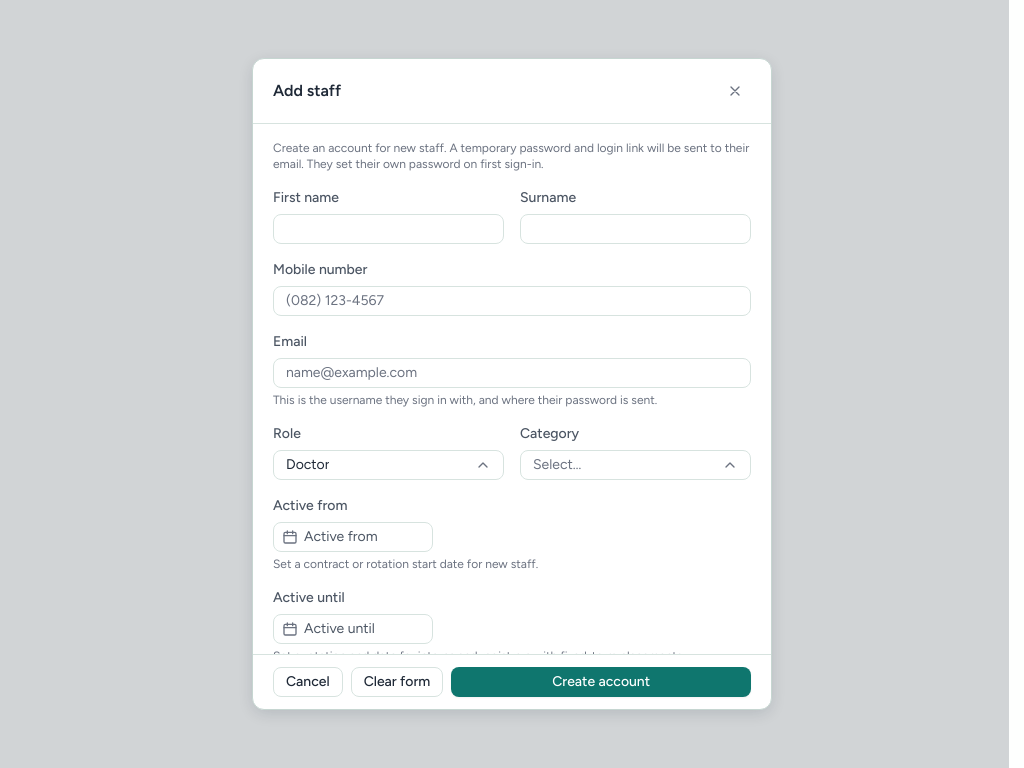
Test: AddStaffModal › reports a delivery failure separately and surfaces the password once
This screenshot has width=1024, height=768.
In the field labelled "First name": [388, 229] box [273,214,504,244], type "Ada"
In the field labelled "Surname": [636, 229] box [520,214,751,244], type "Nkosi"
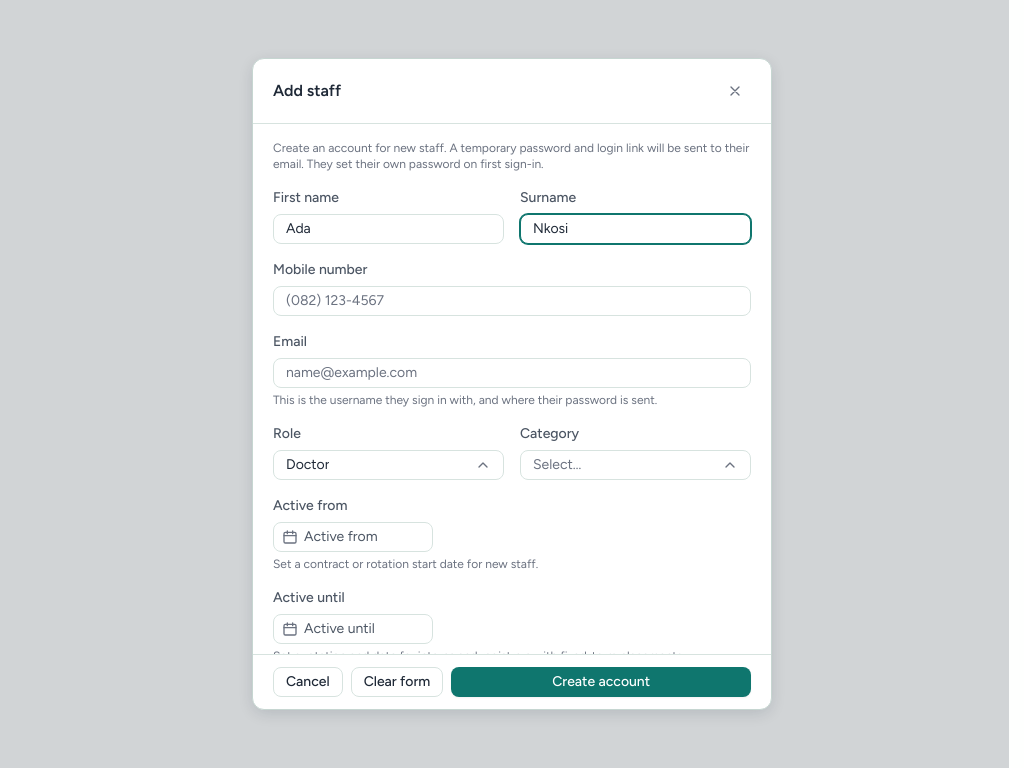
In the field labelled "Mobile number": [512, 301] box [273,286,751,316], type "0821234567"
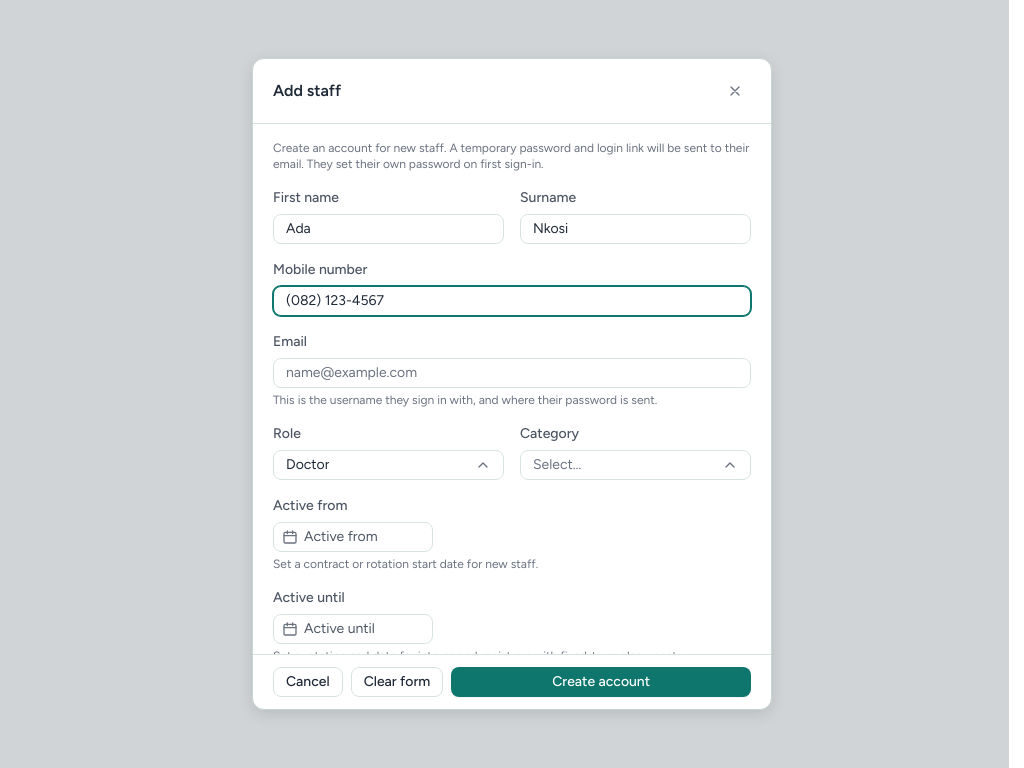
In the field labelled "Email": [512, 373] box [273,358,751,388], type "ada@example.com"
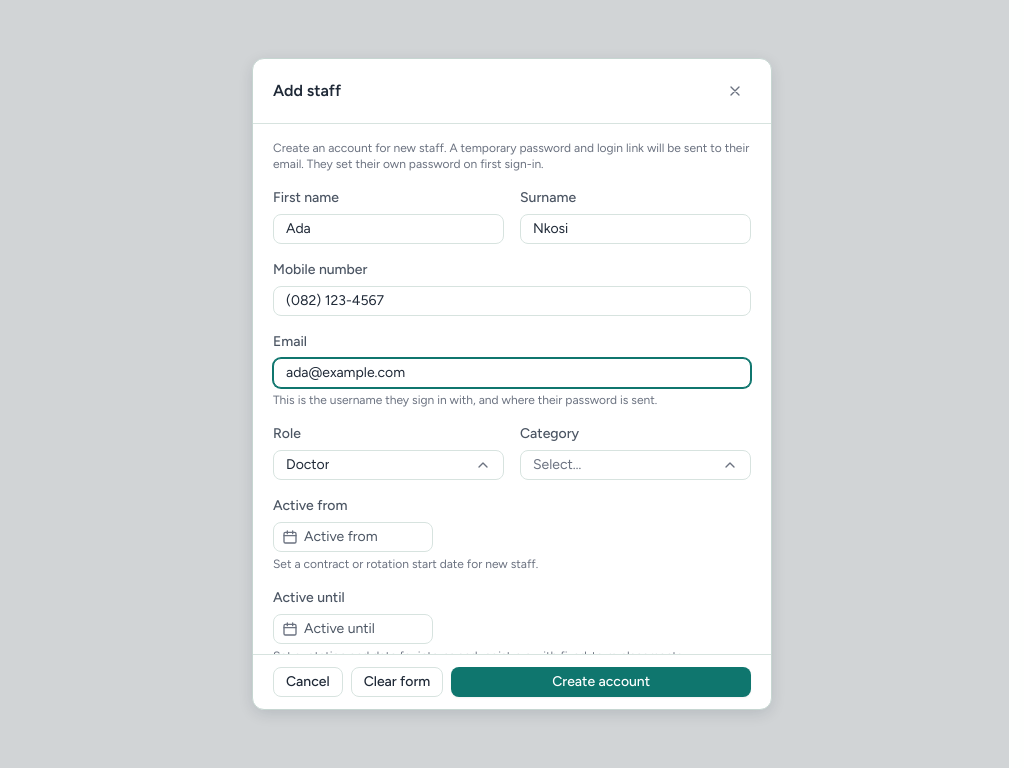
Click the button "Select…": [636, 465] box [520,450,751,480]
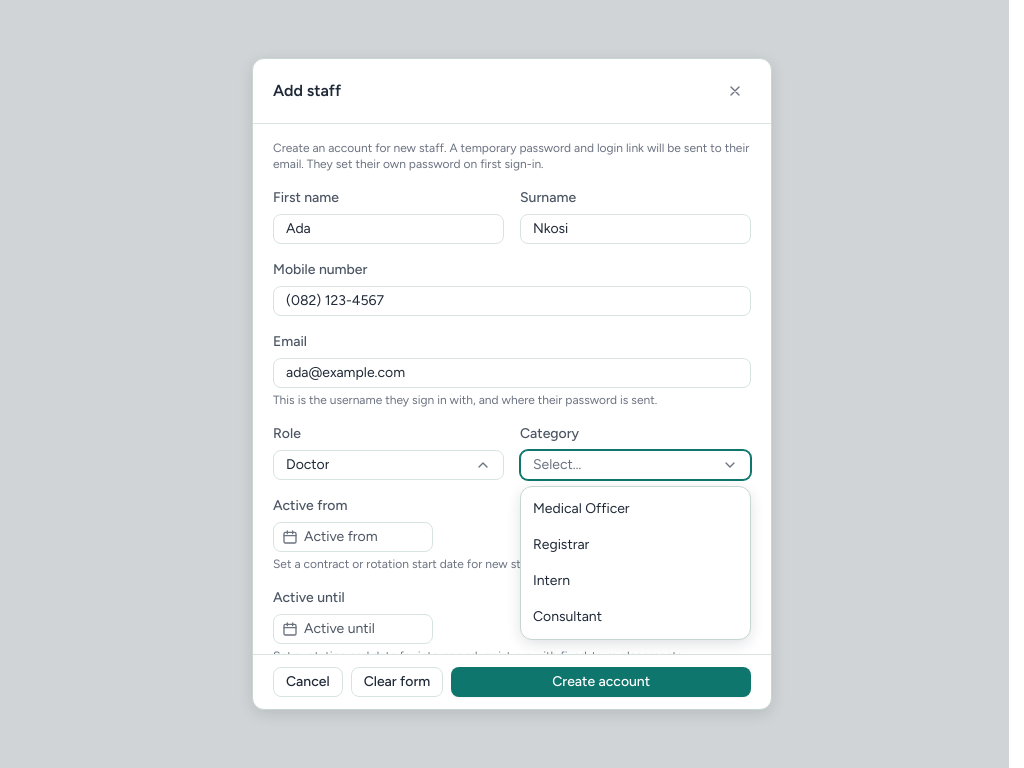
Click the option "Medical Officer": [636, 509] box [521,491,750,527]
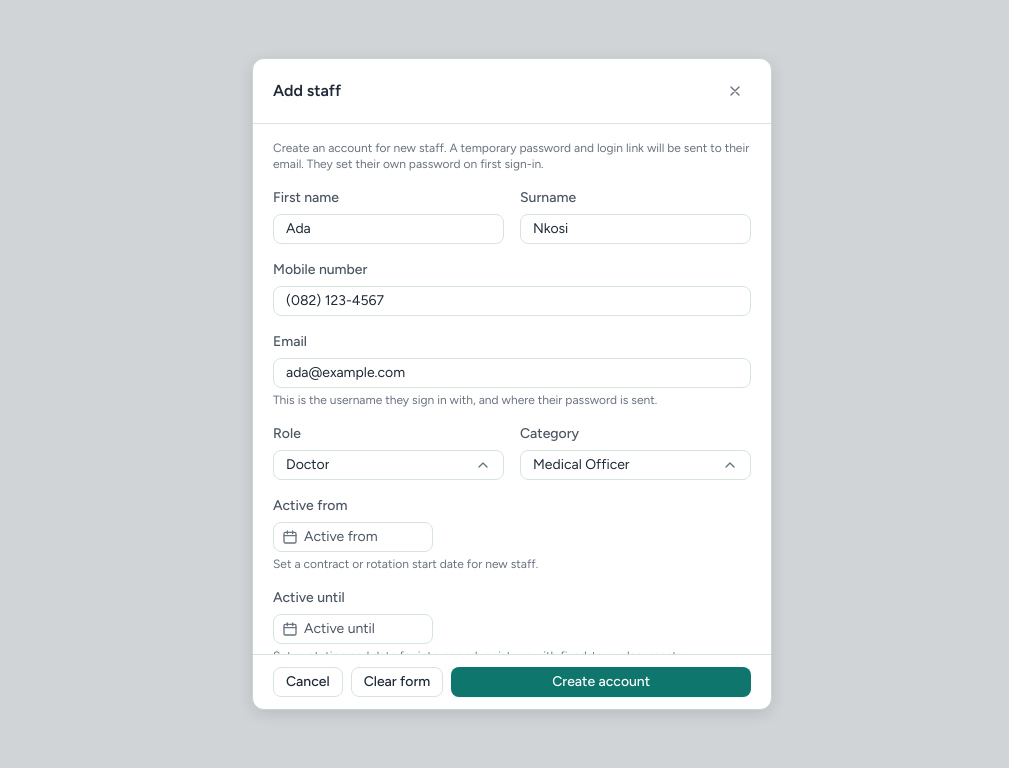
In the date field labelled "Active from": [353, 537] box [273,522,433,552], type "2026-09-01"
Click the button "Create account": [601, 682] box [451,667,751,697]
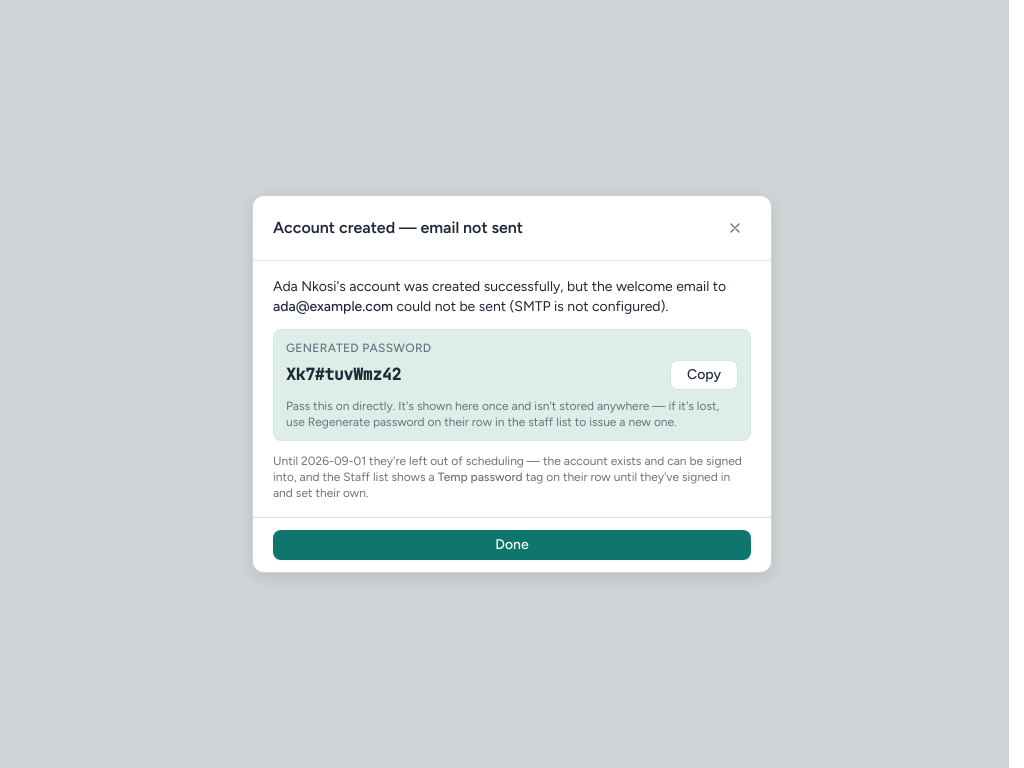
Result: the heading "Account created — email not sent" is shown at [273,216,523,240]
Result: the text "Xk7#tuvWmz42" is shown at [286,364,401,385]
Result: the text "SMTP is not configured" is shown at [506,298,666,315]
